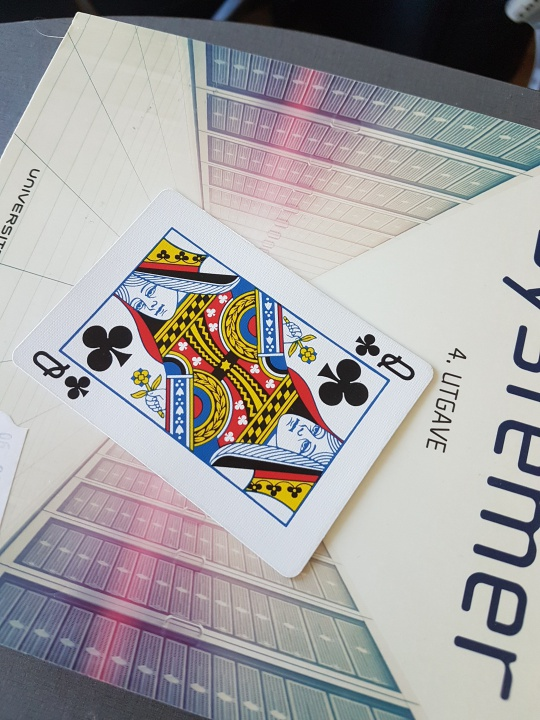queen: (2, 181, 470, 594)
